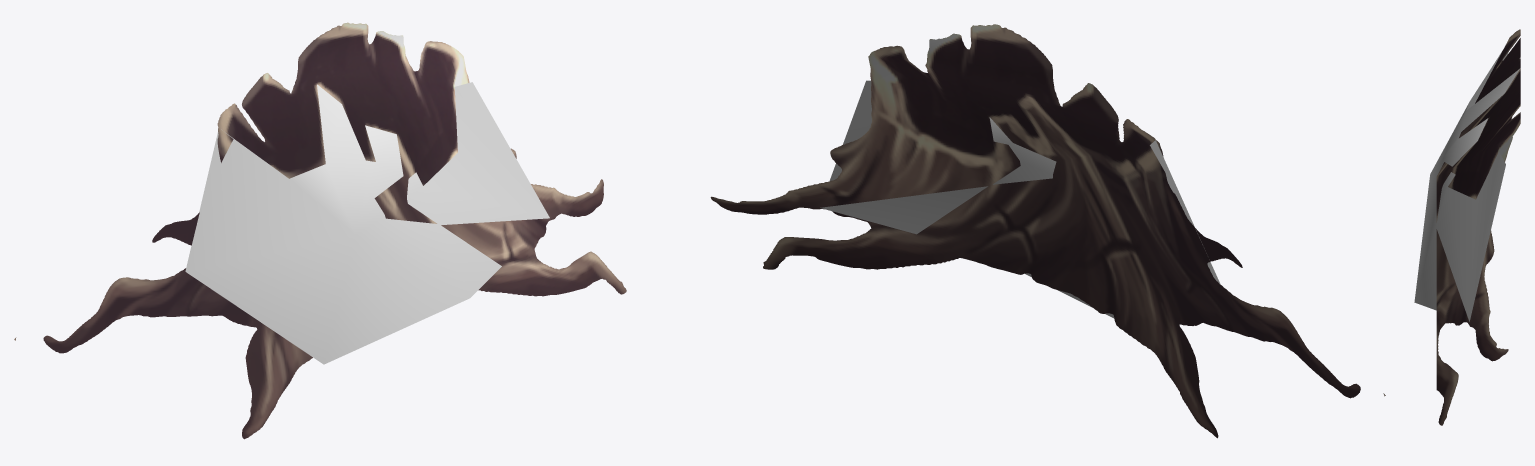
File: Tree Trunk Hole.FBX
3 views of the same model, side by side, from view 1: azimuth 30°, elevation 25°; view 2: azimuth 150°, elevation 25°; view 3: azimuth 270°, elevation 25° (orthographic). The views are drawn at different scales.
Parts seen in each view (by area): view 1: Tree Trunk Mask, Tree Trunk; view 2: Tree Trunk, Tree Trunk Mask; view 3: Tree Trunk, Tree Trunk Mask.
Part boxes in pixels (bbox=[...]): Tree Trunk Mask: bbox=[185, 82, 549, 364]; Tree Trunk: bbox=[14, 22, 626, 439]; Tree Trunk: bbox=[710, 24, 1385, 438]; Tree Trunk Mask: bbox=[820, 80, 1220, 318]; Tree Trunk: bbox=[1436, 29, 1520, 425]; Tree Trunk Mask: bbox=[1414, 49, 1520, 321].
Bounding box in the file's own units: 676 × 107 × 396.
